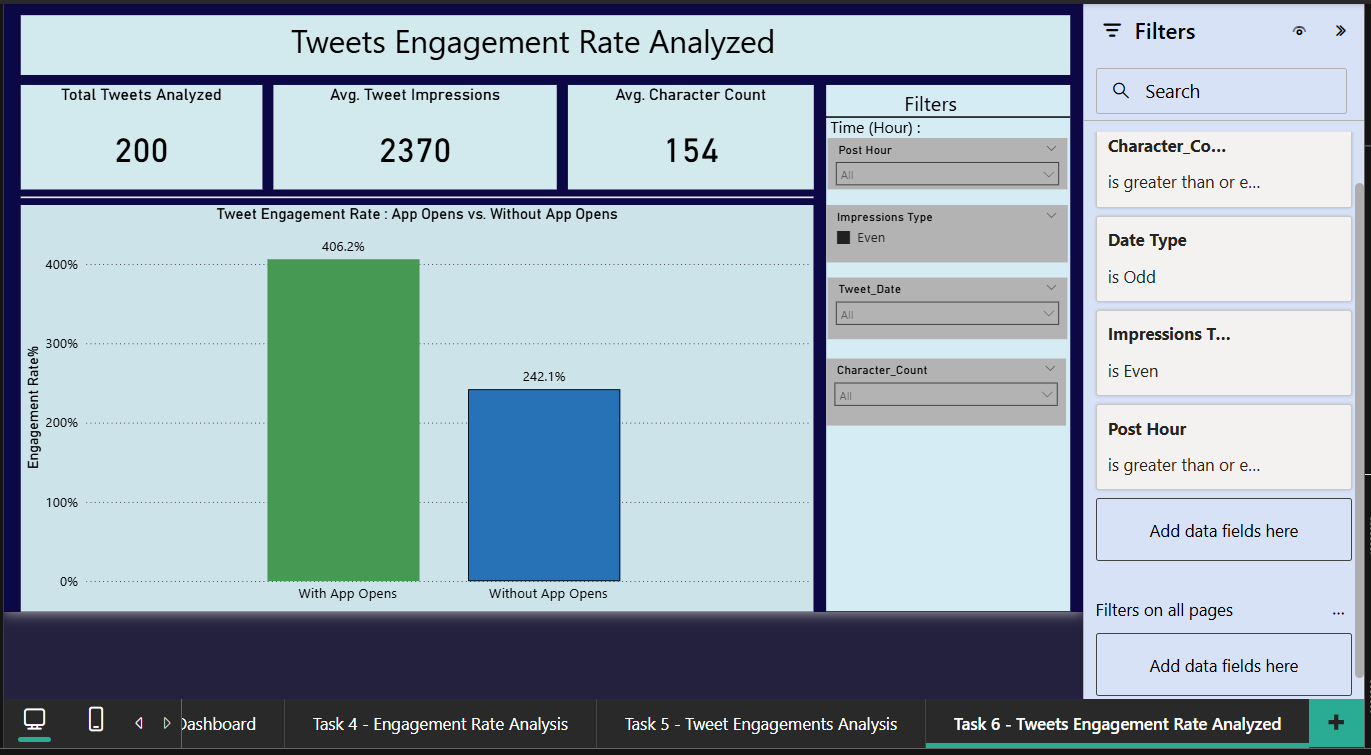

This screenshot's page, from the dashboard's own definition file:
{"tool":"powerbi","page":{"name":"Task 6 - Tweets Engagement Rate Analyzed","canvas":[1280,720],"ordinal":5},"visuals":[{"type":"card","title":"Total Tweets Analyzed","fields":{"Values":["Min(twitter_powerbi_dashboard_dataset.Total Tweets)"]},"box":[19.9,96,286.3,124.1],"z":0},{"type":"card","title":"Avg. Tweet Impressions","fields":{"Values":["Avg(twitter_powerbi_dashboard_dataset.Avg Impressions)"]},"box":[319.4,96,336,124.1],"z":1000},{"type":"card","title":"Avg. Character Count","fields":{"Values":["Avg(twitter_powerbi_dashboard_dataset.Avg Character Count)"]},"box":[668.7,96,291.3,124.1],"z":2000},{"type":"textbox","box":[19.9,13.2,1244.6,71.2],"z":3000},{"type":"shape","box":[19.9,220.1,940.1,18.2],"z":4000},{"type":"textbox","box":[974.8,96,289.6,624],"z":5000},{"type":"shape","box":[974.8,127.4,289.6,13.2],"z":6000},{"type":"slicer","fields":{"Values":["twitter_powerbi_dashboard_dataset.Post Hour"]},"box":[976.5,158.9,284.7,61.2],"z":7000},{"type":"slicer","fields":{"Values":["twitter_powerbi_dashboard_dataset.Impressions Type"]},"box":[974.8,238.3,286.3,67.9],"z":8000},{"type":"slicer","fields":{"Values":["twitter_powerbi_dashboard_dataset.Tweet_Date"]},"box":[976.5,324.4,284.7,72.8],"z":9000},{"type":"slicer","fields":{"Values":["twitter_powerbi_dashboard_dataset.Character_Count"]},"box":[974.8,420.4,284.7,79.4],"z":10000},{"type":"clusteredColumnChart","title":"Tweet Engagement Rate : App Opens vs. Without App Opens","fields":{"Category":["twitter_powerbi_dashboard_dataset.App Opens"],"Y":["twitter_powerbi_dashboard_dataset.Engagement Rate"]},"box":[20,238,940,482],"z":11000}]}

Visuals, with their boxes on the page's 1280x720 design canvas (x1, y1, x2, y2). These are canvas units, not pixel positions in the 1371x755 screenshot, which may show the page scaled, cropped or inside an application window:
"Total Tweets Analyzed" card: bbox=(20, 96, 306, 220)
"Avg. Tweet Impressions" card: bbox=(319, 96, 655, 220)
"Avg. Character Count" card: bbox=(669, 96, 960, 220)
textbox: bbox=(20, 13, 1264, 84)
shape: bbox=(20, 220, 960, 238)
textbox: bbox=(975, 96, 1264, 720)
shape: bbox=(975, 127, 1264, 141)
slicer - twitter_powerbi_dashboard_dataset.Post Hour: bbox=(976, 159, 1261, 220)
slicer - twitter_powerbi_dashboard_dataset.Impressions Type: bbox=(975, 238, 1261, 306)
slicer - twitter_powerbi_dashboard_dataset.Tweet_Date: bbox=(976, 324, 1261, 397)
slicer - twitter_powerbi_dashboard_dataset.Character_Count: bbox=(975, 420, 1260, 500)
"Tweet Engagement Rate : App Opens vs. Without App Opens" clusteredColumnChart: bbox=(20, 238, 960, 720)
